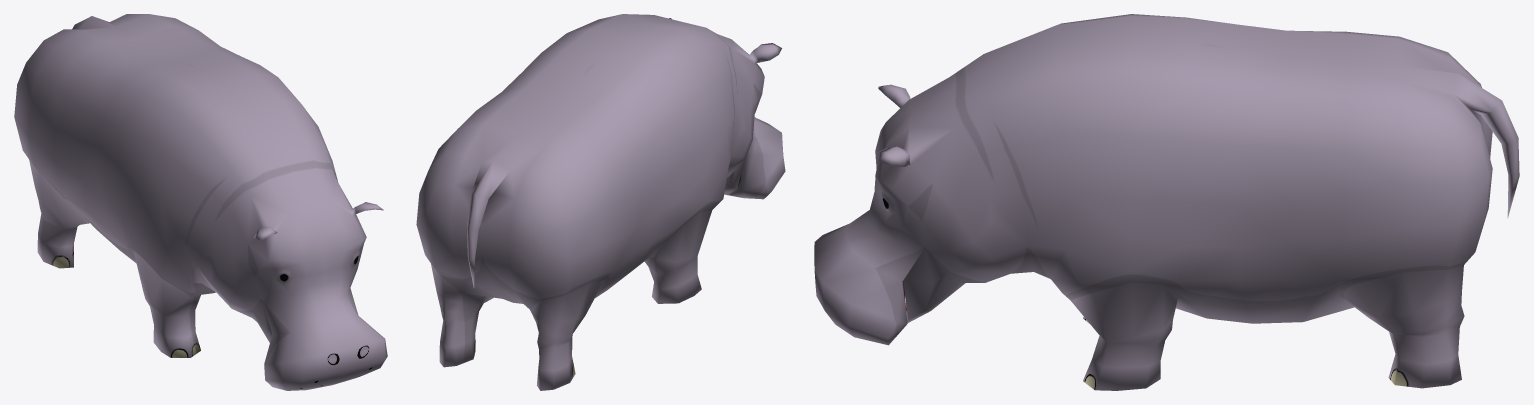
Rendered from Hippo.FBX.
The picture shows the model from 3 angles, left to right: view 1: azimuth 30°, elevation 25°; view 2: azimuth 150°, elevation 25°; view 3: azimuth 270°, elevation 25°; orthographic projection. The views are drawn at different scales.
Parts seen in each view (by area): view 1: default; view 2: default; view 3: default.
Part boxes in pixels (bbox=[...]): default: bbox=[14, 14, 387, 390]; default: bbox=[416, 14, 785, 390]; default: bbox=[814, 14, 1519, 390].
Size of the model in its own units: 12.1 by 16.62 by 33.77.
